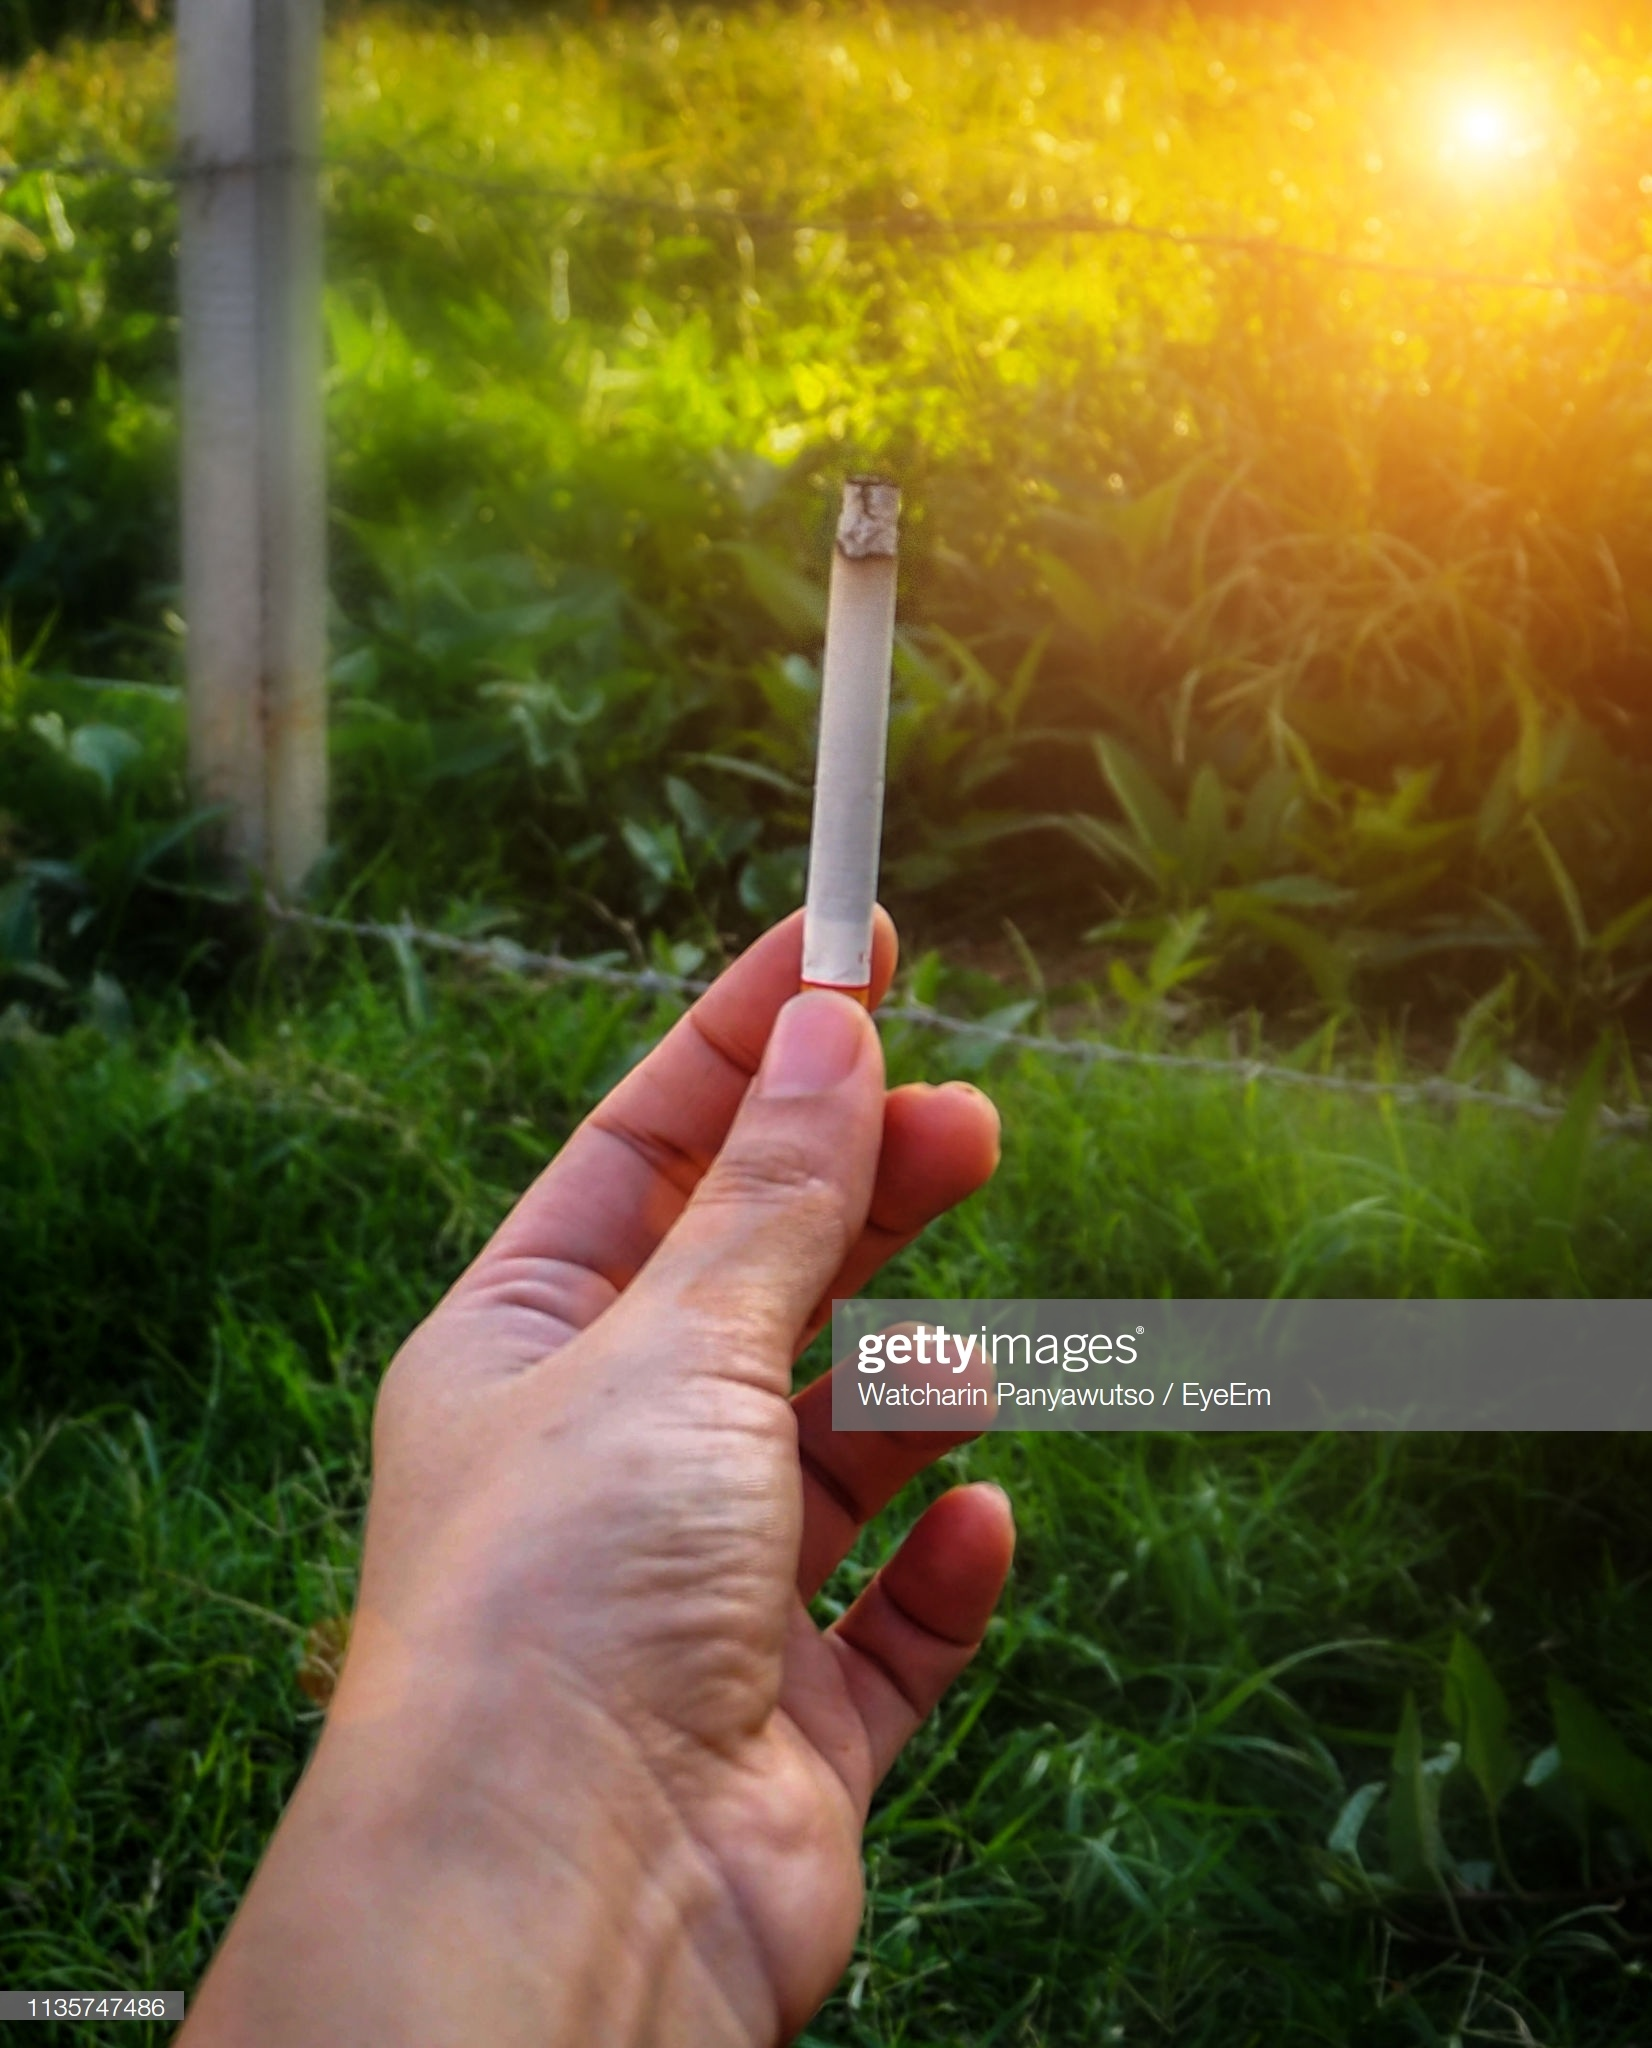sigaretta: (787, 504, 890, 1027)
